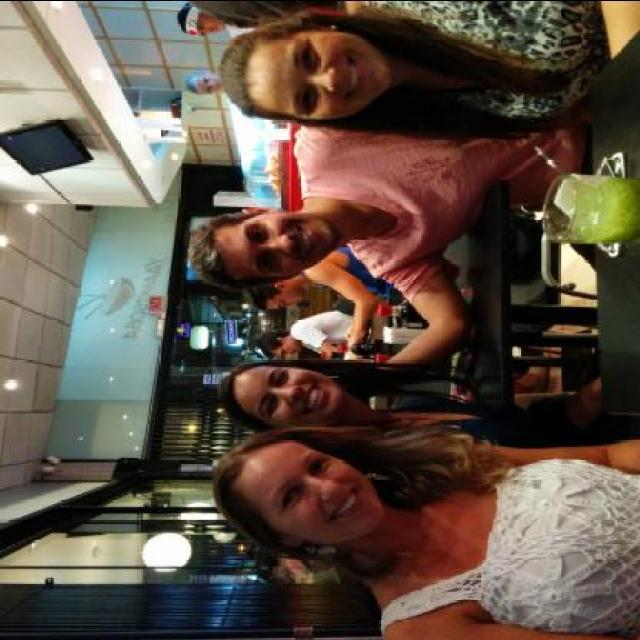Juice: (560, 168, 638, 238)
